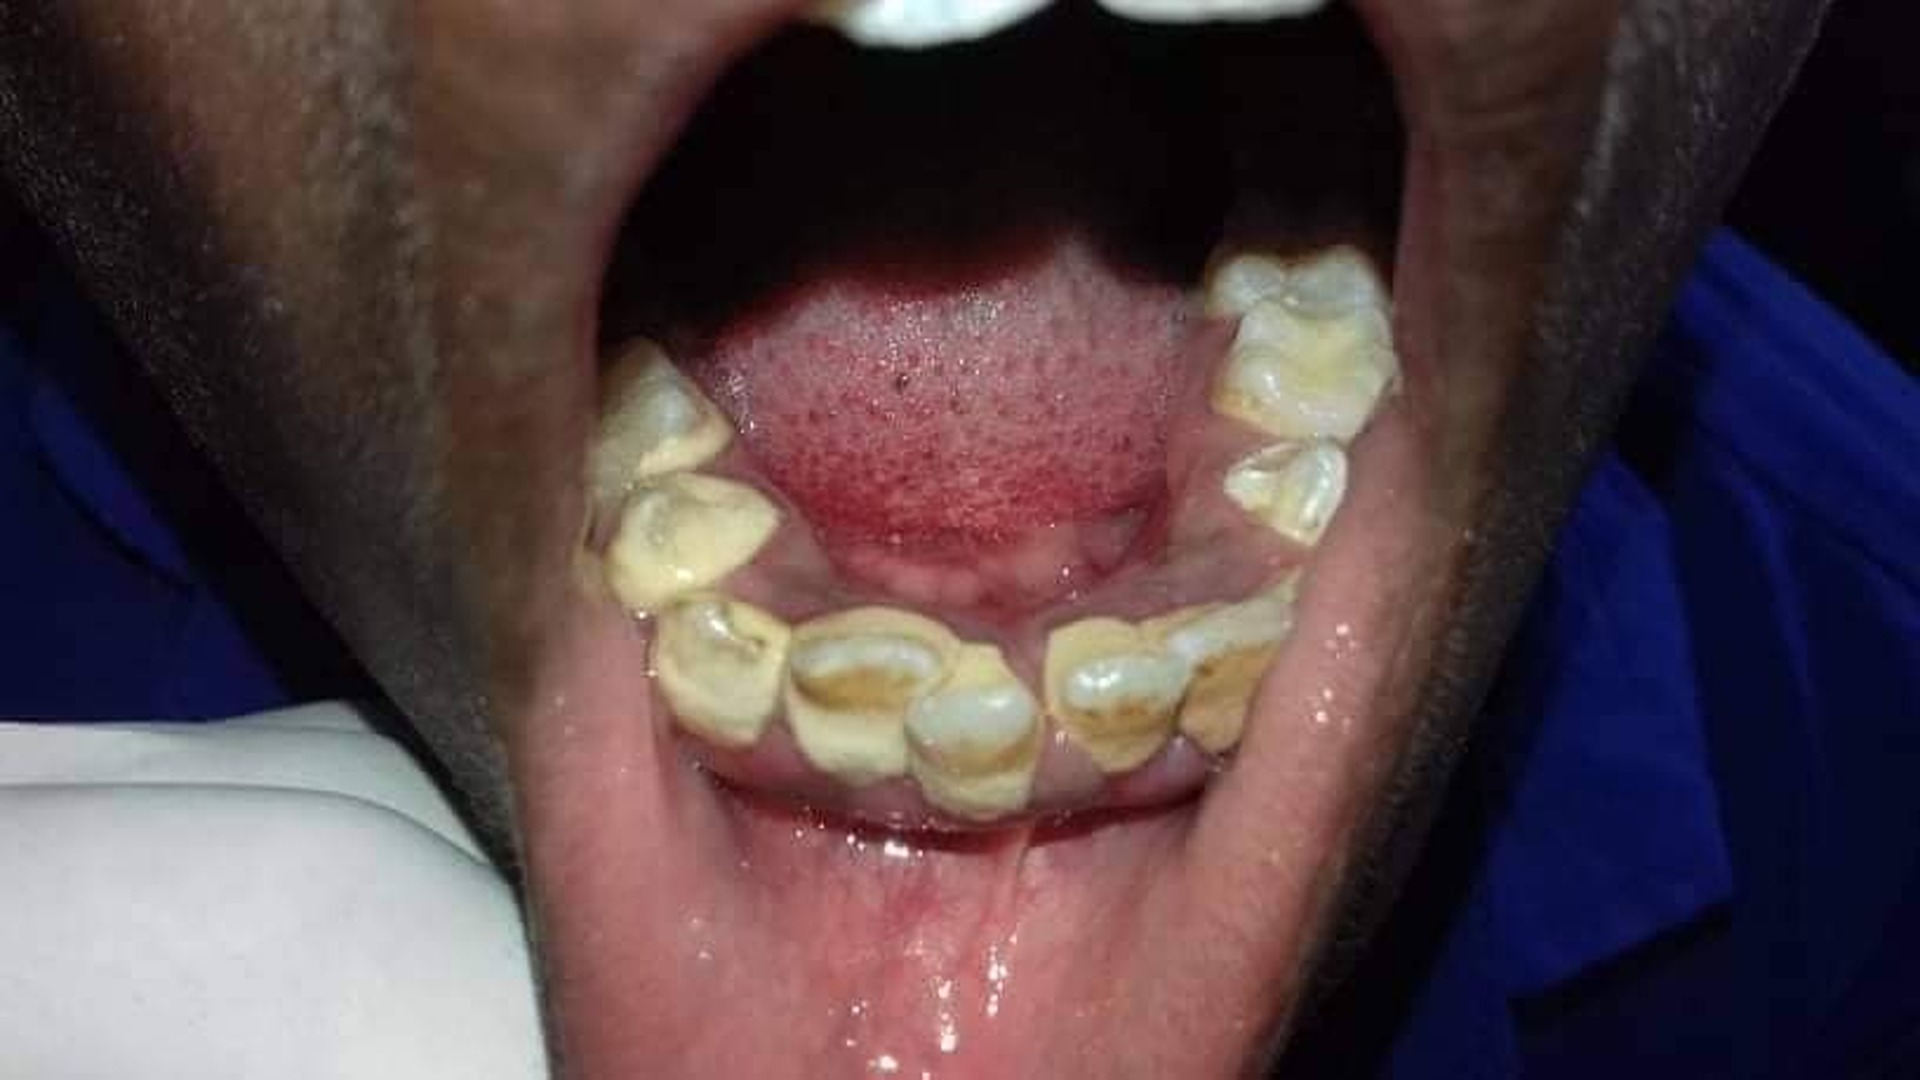tooth: (785, 606, 961, 788), (1139, 570, 1299, 753), (1210, 301, 1398, 439), (903, 642, 1045, 821), (603, 473, 786, 608), (1043, 618, 1191, 773), (597, 337, 735, 496), (657, 601, 791, 747), (1223, 439, 1347, 546)
